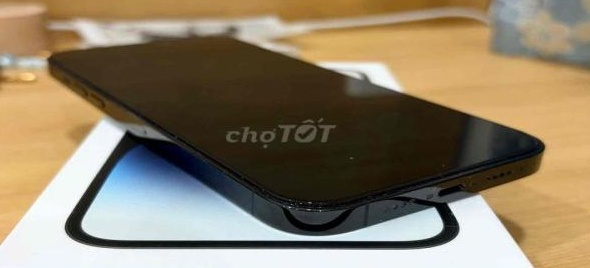scratch: (261, 191, 348, 214), (416, 181, 447, 212), (343, 156, 365, 162)
